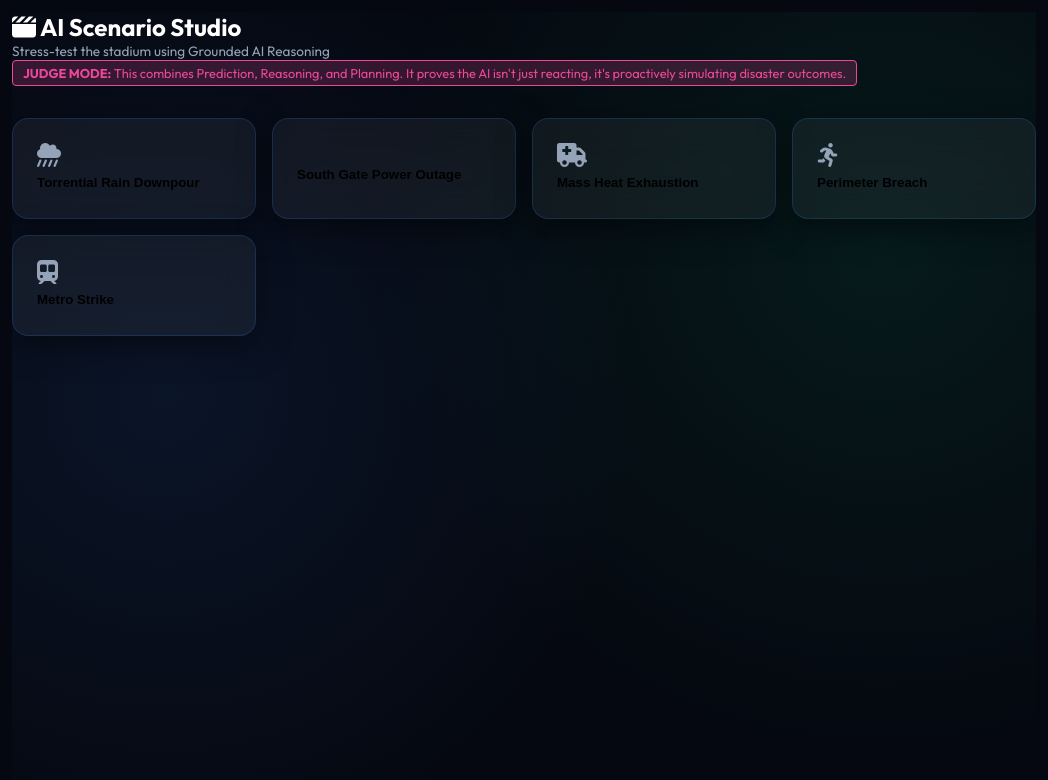
Test: ScenarioStudio Component › displays loading state and runs scenario on click
Click the button "Torrential Rain Downpour": (134,168) [12,118,256,219]
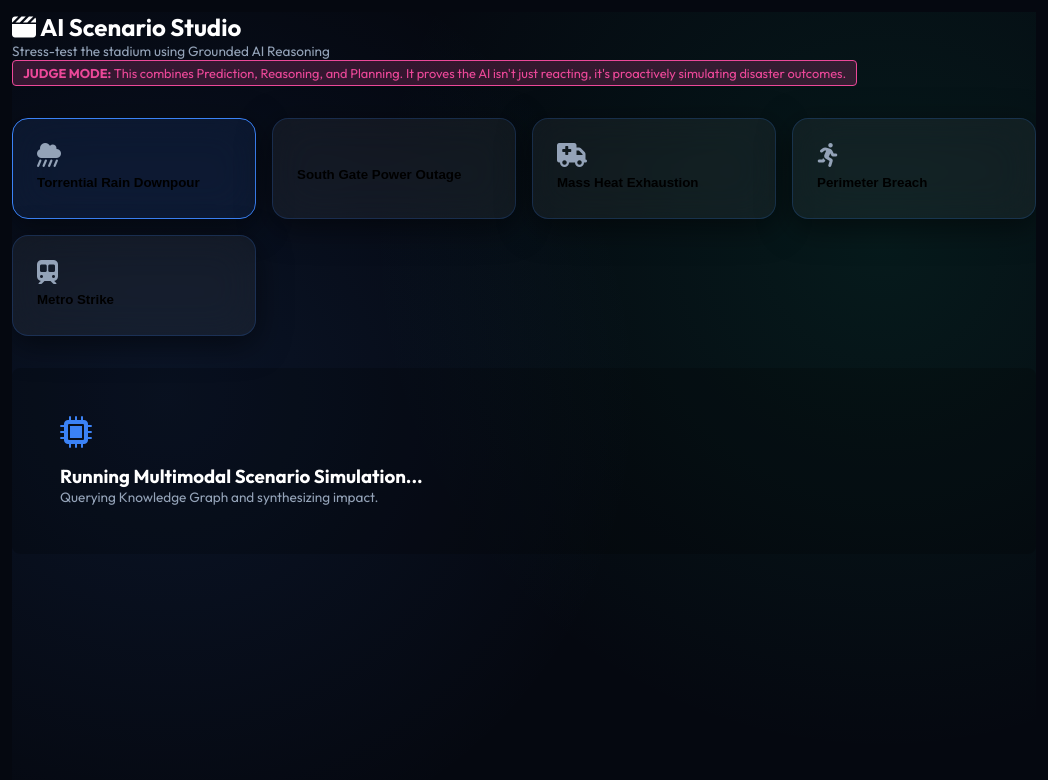
Now the heading "Running Multimodal Scenario Simulation..." is shown, box [60,464,423,488]
